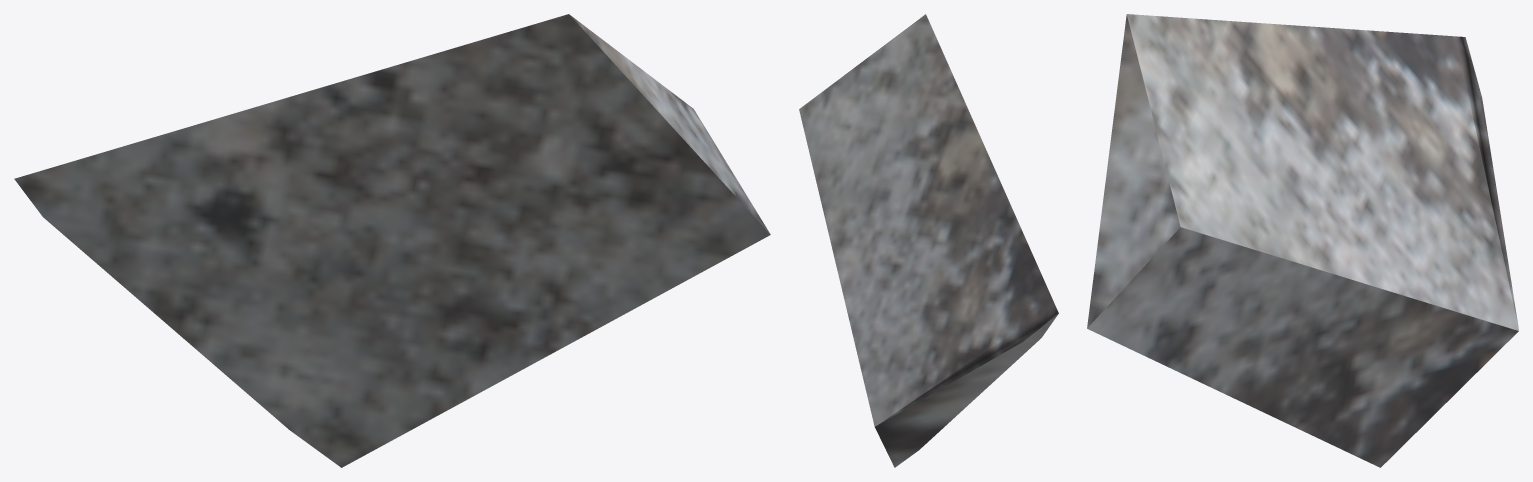
The model's file is Asteroid_Large_001_02_003_03_013.fbx.
3 views of the same model, side by side, from view 1: azimuth 30°, elevation 25°; view 2: azimuth 150°, elevation 25°; view 3: azimuth 270°, elevation 25° (orthographic). The views are drawn at different scales.
Visible parts, largest first — view 1: Asteroid_Large_001_02_003_03_013; view 2: Asteroid_Large_001_02_003_03_013; view 3: Asteroid_Large_001_02_003_03_013.
Boxes of the visible parts, x1,y1,x2,y2 form: Asteroid_Large_001_02_003_03_013: (14,14,770,467); Asteroid_Large_001_02_003_03_013: (799,14,1058,467); Asteroid_Large_001_02_003_03_013: (1087,14,1518,467).
Bounding box in the file's own units: 3.61 × 3.31 × 2.61.
